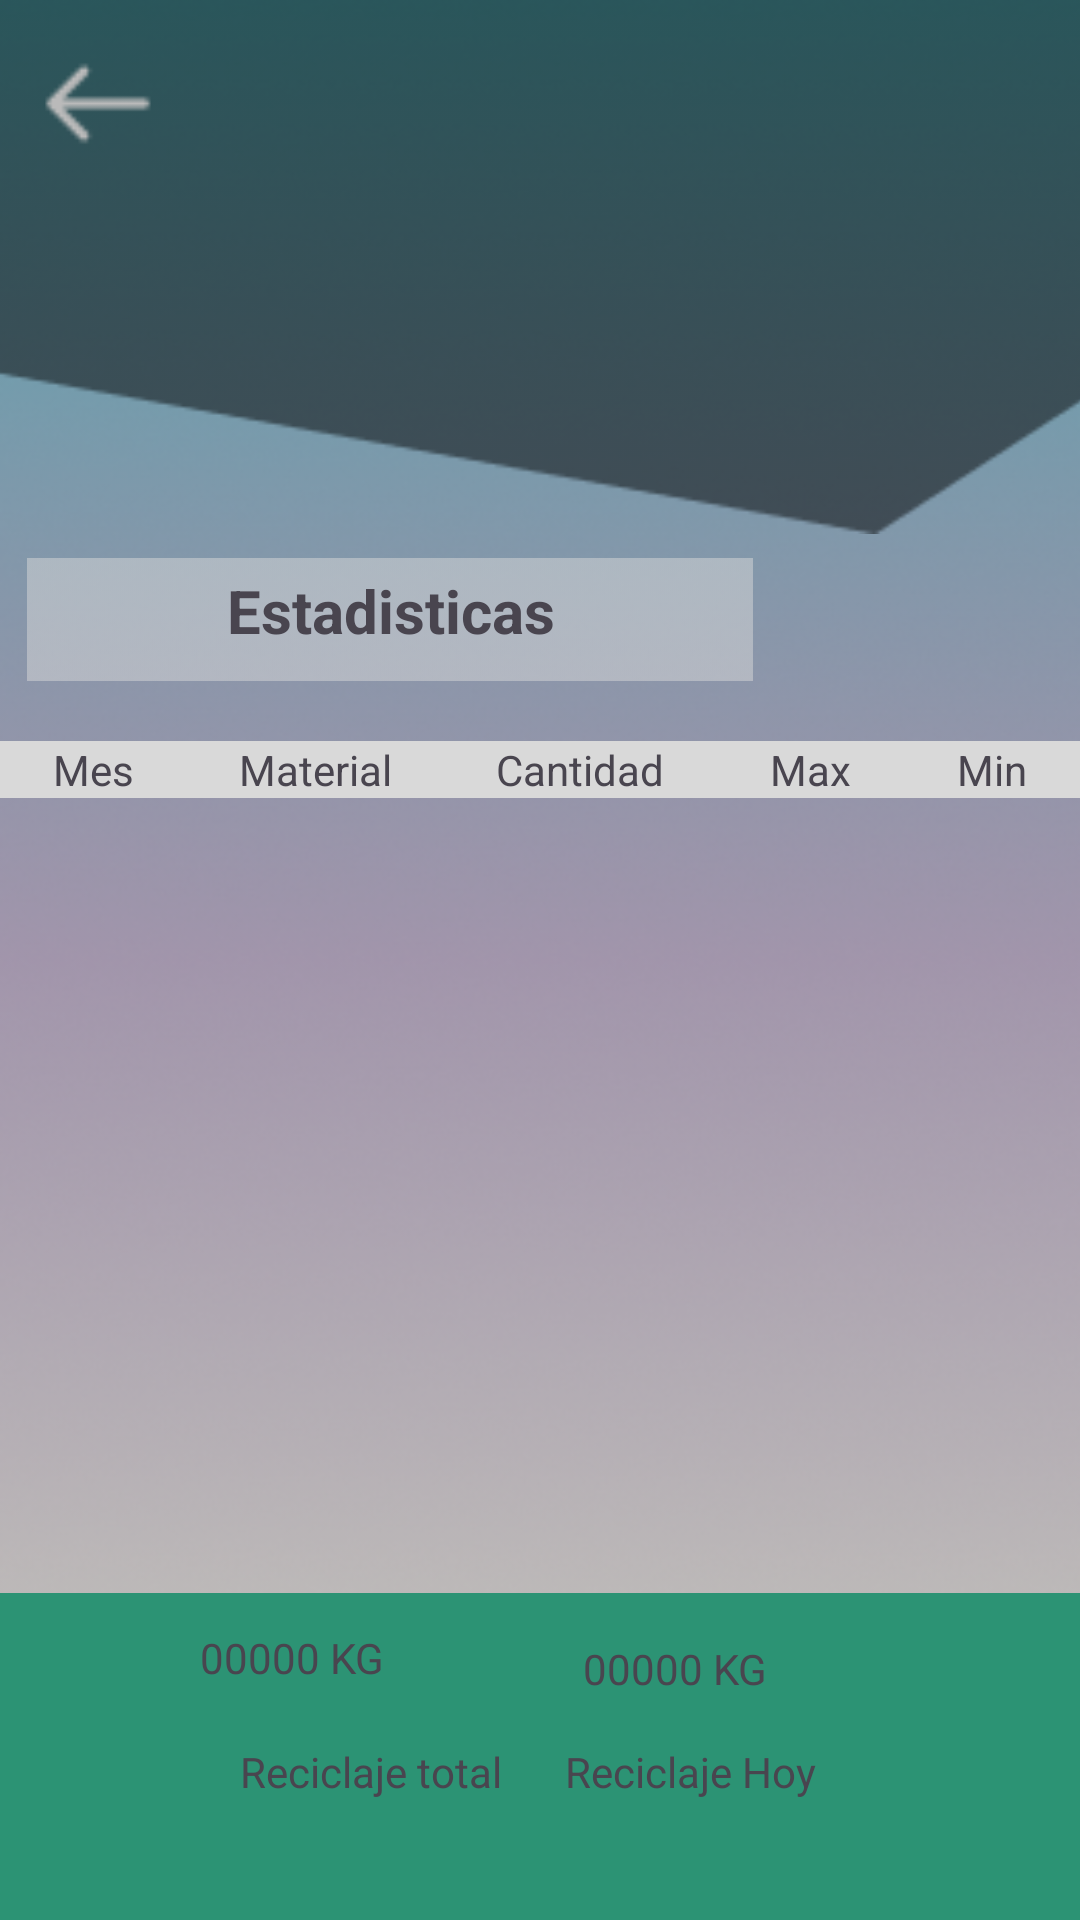

Named icons in this screenshot (1080px x 1920px) and their centers, point (x, y):
retroceso: point (98, 103)
